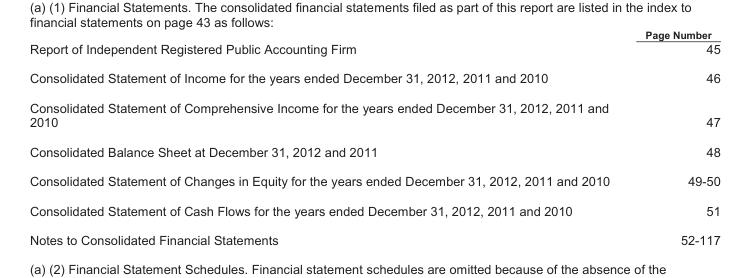table: (28, 28, 719, 246)
table column: (28, 28, 626, 246), (626, 28, 719, 246)
table column header: (28, 28, 719, 40)
table row: (28, 92, 719, 136), (28, 136, 719, 166), (28, 195, 719, 225), (28, 63, 719, 92), (28, 166, 719, 195), (28, 40, 719, 63), (28, 225, 719, 246), (28, 28, 719, 40)
